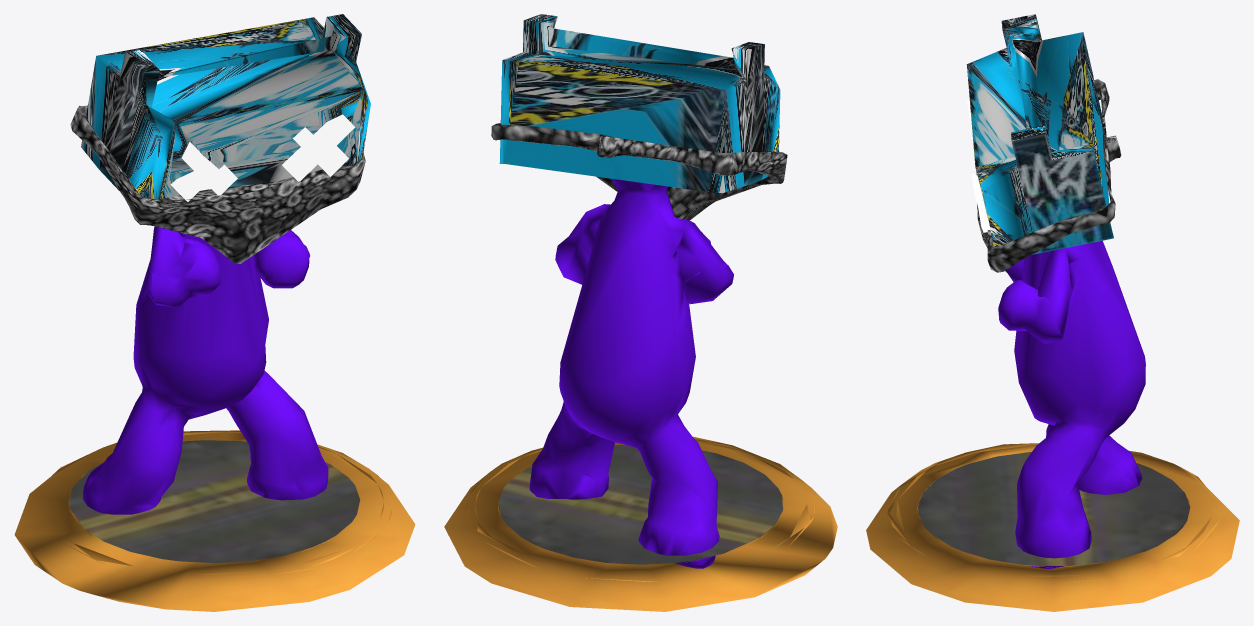
3 renders of one model, left to right at view 1: azimuth 30°, elevation 25°; view 2: azimuth 150°, elevation 25°; view 3: azimuth 270°, elevation 25°, orthographic. The views are drawn at different scales.
Bounding box in the file's own units: 1.45 × 2.02 × 1.44.
Materials: 6 (4 with a texture image).
